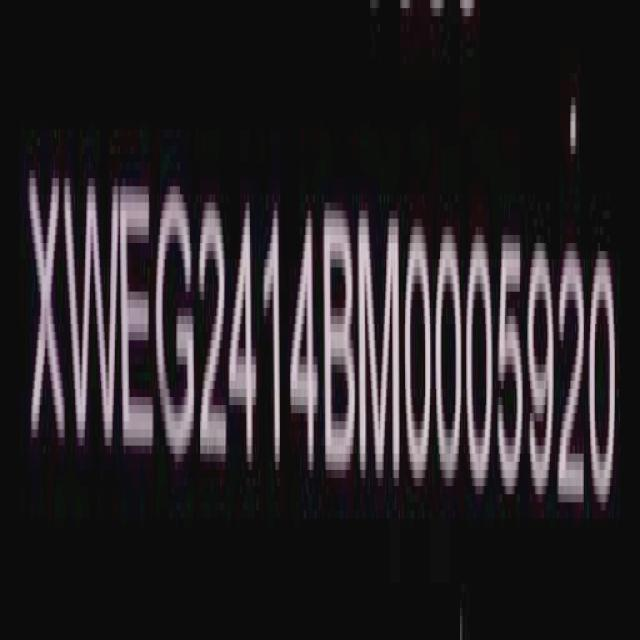0: (406, 217, 434, 487), (436, 227, 464, 488), (467, 232, 494, 492), (586, 259, 614, 505)
1: (261, 192, 283, 478)
2: (198, 199, 230, 472), (559, 250, 588, 506)
4: (292, 200, 324, 483), (229, 198, 256, 478)
5: (499, 230, 525, 496)
9: (528, 245, 554, 501)
B: (324, 200, 357, 484)
E: (123, 184, 158, 466)
G: (156, 184, 197, 466)
M: (356, 200, 404, 489)
W: (64, 168, 120, 451)
X: (31, 167, 67, 457)
